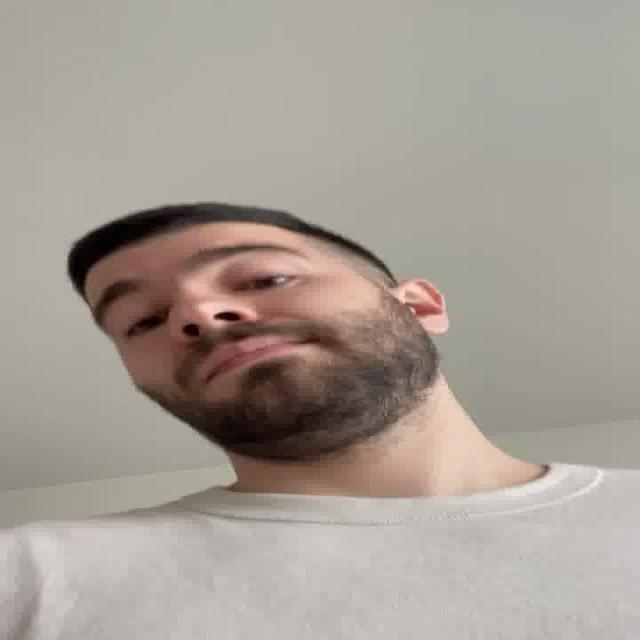earlobe: (398, 279, 448, 335)
